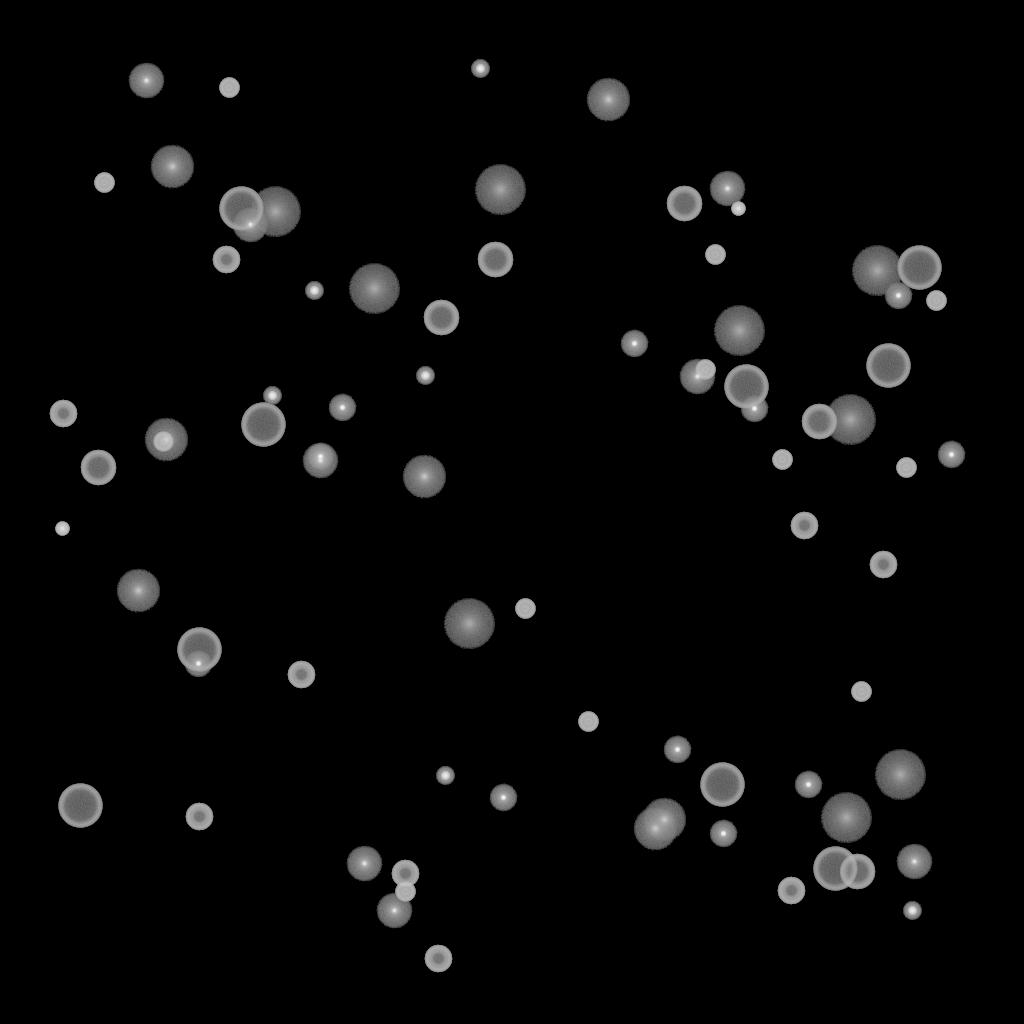depth:-10: (306, 443, 334, 471), (740, 395, 768, 423), (794, 771, 822, 799), (937, 441, 965, 469), (709, 820, 737, 848), (884, 282, 912, 310), (663, 736, 691, 764), (489, 784, 517, 812), (620, 330, 648, 358), (184, 650, 212, 678), (328, 394, 356, 422)
depth:-20: (436, 767, 454, 785), (471, 60, 489, 78), (263, 387, 281, 405), (416, 367, 434, 385), (305, 282, 323, 300), (903, 902, 921, 920)
depth:-30: (731, 202, 745, 216), (55, 522, 69, 536)
depth:-40: (695, 360, 715, 380), (578, 712, 598, 732), (772, 450, 792, 470), (395, 882, 415, 902), (94, 173, 114, 193), (219, 78, 239, 98), (515, 599, 535, 619), (896, 458, 916, 478), (926, 291, 946, 311), (851, 682, 871, 702), (705, 245, 725, 265), (153, 432, 173, 452)
depth:-50: (777, 877, 805, 905), (185, 803, 213, 831), (424, 945, 452, 973), (790, 512, 818, 540), (391, 860, 419, 888), (287, 661, 315, 689), (49, 400, 77, 428), (869, 551, 897, 579), (212, 246, 240, 274)
depth:-60: (423, 300, 459, 336), (80, 450, 116, 486), (666, 186, 702, 222), (477, 242, 513, 278), (839, 854, 875, 890), (801, 404, 837, 440)
depth:-70: (700, 763, 744, 807), (58, 784, 102, 828), (241, 403, 285, 447), (897, 246, 941, 290), (813, 847, 857, 891), (724, 365, 768, 409), (219, 187, 263, 231), (177, 628, 221, 672), (866, 344, 910, 388)
depth:0: (232, 207, 268, 243), (896, 844, 932, 880), (709, 171, 745, 207), (376, 893, 412, 929), (302, 443, 338, 479), (679, 359, 715, 395), (128, 63, 164, 99), (346, 846, 382, 882)
depth:10: (586, 78, 630, 122), (116, 569, 160, 613), (633, 807, 677, 851), (402, 455, 446, 499), (150, 145, 194, 189), (144, 418, 188, 462), (642, 798, 686, 842)
depth:20: (348, 264, 400, 314), (874, 750, 926, 800), (824, 395, 876, 445), (474, 165, 526, 215), (249, 187, 301, 237), (820, 793, 872, 843), (851, 246, 903, 296), (443, 599, 495, 649), (713, 306, 765, 356)
